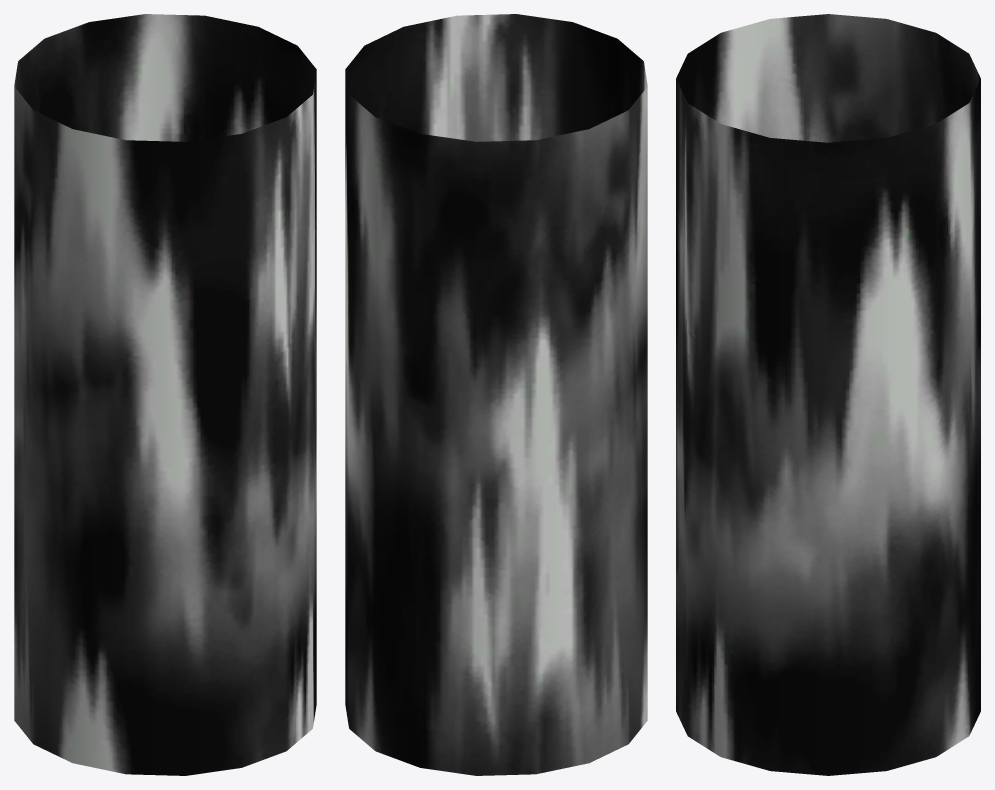
Rendered from guangshu.fbx.
3 views of the same model, side by side, from view 1: azimuth 30°, elevation 25°; view 2: azimuth 150°, elevation 25°; view 3: azimuth 270°, elevation 25° (orthographic).
Parts seen in each view (by area): view 1: guangshu; view 2: guangshu; view 3: guangshu.
Part boxes in pixels (<box>): guangshu: <box>14,14,316,775</box>; guangshu: <box>345,14,647,775</box>; guangshu: <box>676,14,980,775</box>.
Size of the model in its own units: 0.4335 by 0.9937 by 0.4335.
